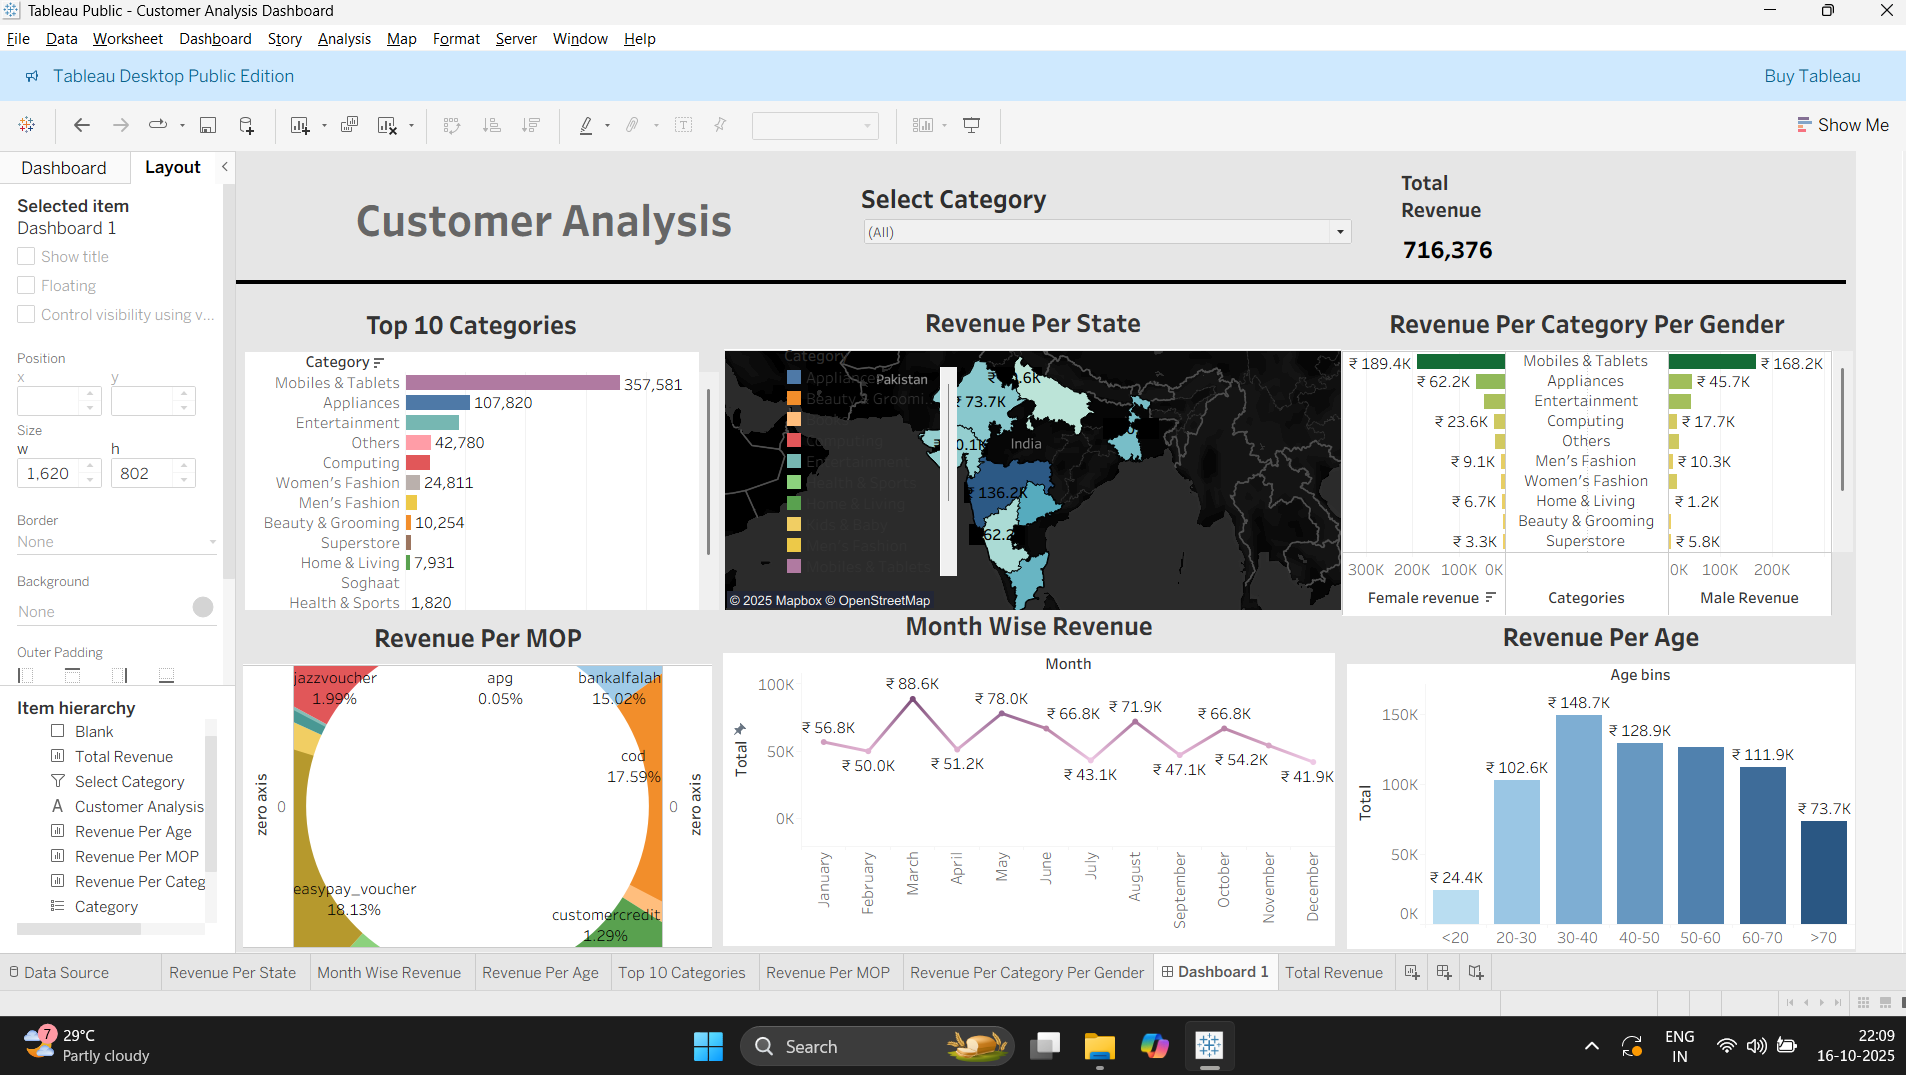

This screenshot's page, from the dashboard's own definition file:
{"tool":"tableau","page":{"name":"Dashboard 1","canvas":[1000,1000],"units":"permille","ordinal":0},"visuals":[{"type":"text","box":[32.7,12.5,314.8,144.6]},{"type":"worksheet","title":"Total Revenue","mark":"Automatic","box":[716.7,17.5,251.2,165.8]},{"type":"filter","title":"Revenue Per Category Per Gender","param":"[federated.1g22d8n0ynicm013y98ku0xn6ard].[none:category:nk]","box":[385.8,38.6,304.9,101]},{"type":"worksheet","title":"Revenue Per State","mark":"Automatic","box":[301.2,188.3,381.5,386.5]},{"type":"worksheet","title":"Revenue Per Category Per Gender","mark":"Automatic","rows":["category"],"cols":["Calculation_1346857828271628289","Calculation_1346857828270325760","Calculation_1346857828272070658"],"box":[682.7,189.5,316.1,391.5]},{"type":"worksheet","title":"Top 10 Categories","mark":"Automatic","rows":["category"],"cols":["total"],"box":[5.6,190.8,292.6,382.8]},{"type":"legend","title":"Top 10 Categories","param":"[federated.1g22d8n0ynicm013y98ku0xn6ard].[none:category:nk]","box":[338.2,243.1,107.9,289.3]},{"type":"worksheet","title":"Month Wise Revenue","mark":"Automatic","rows":["total"],"cols":["month"],"box":[300.7,566.1,377.6,426.4]},{"type":"worksheet","title":"Revenue Per Age","mark":"Automatic","rows":["total"],"cols":["Age (bin)"],"box":[685.8,579.8,313.6,416.5]},{"type":"worksheet","title":"Revenue Per MOP","mark":"Pie","rows":["Calculation_1346857828270325760","Calculation_1346857828270325760"],"box":[4.3,581.1,290.1,414]}]}

Visuals, with their boxes on the dashboard's canvas, which has no fixed pixel size, in thousandths of its width and height (x1, y1, x2, y2). These are canvas units, not pixel positions in the 1906x1075 screenshot, which may show the page scaled, cropped or inside an application window:
text: (left=33, top=12, right=348, bottom=157)
"Total Revenue" worksheet: (left=717, top=18, right=968, bottom=183)
"Revenue Per Category Per Gender" filter: (left=386, top=39, right=691, bottom=140)
"Revenue Per State" worksheet: (left=301, top=188, right=683, bottom=575)
"Revenue Per Category Per Gender" worksheet: (left=683, top=190, right=999, bottom=581)
"Top 10 Categories" worksheet: (left=6, top=191, right=298, bottom=574)
"Top 10 Categories" legend: (left=338, top=243, right=446, bottom=532)
"Month Wise Revenue" worksheet: (left=301, top=566, right=678, bottom=992)
"Revenue Per Age" worksheet: (left=686, top=580, right=999, bottom=996)
"Revenue Per MOP" worksheet (Pie marks): (left=4, top=581, right=294, bottom=995)
